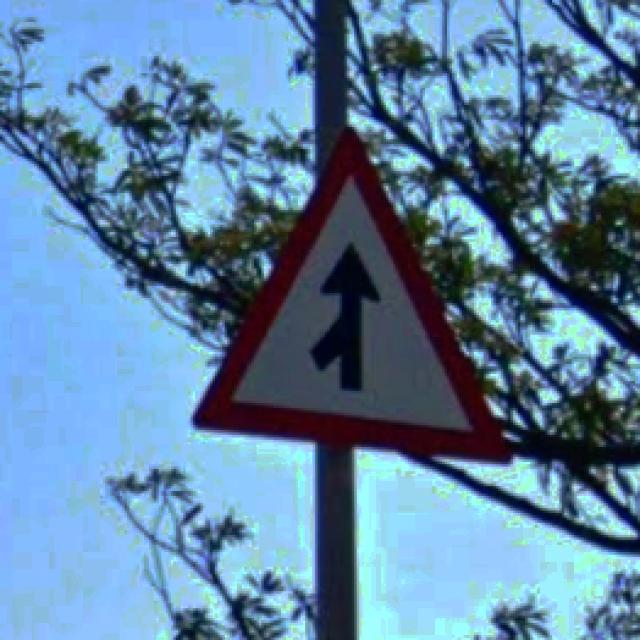leftmerge: (191, 127, 513, 467)
